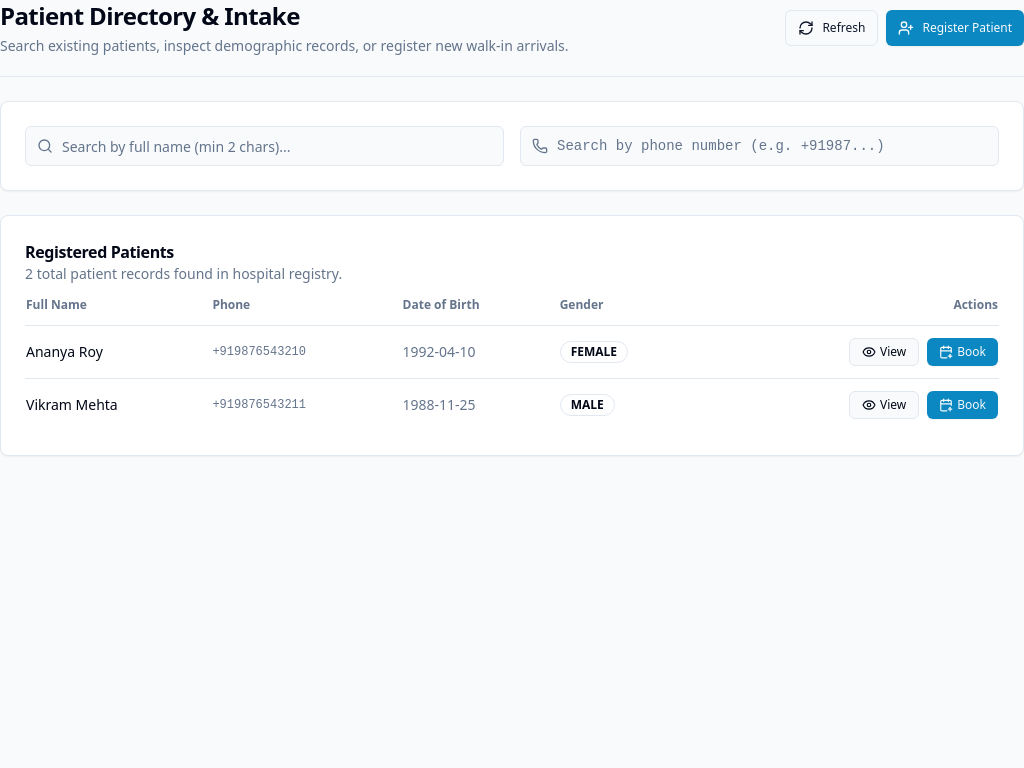
Scenario: Receptionist Patient Management & Registration › opens patient detail modal and displays demographics and allergies
The image size is (1024, 768).
Check: the text "Ananya Roy" is shown, box [25,326,211,378]
Click the button "View" in the row of "Ananya Roy" at {"x": 884, "y": 352}, box [849,338,919,366]
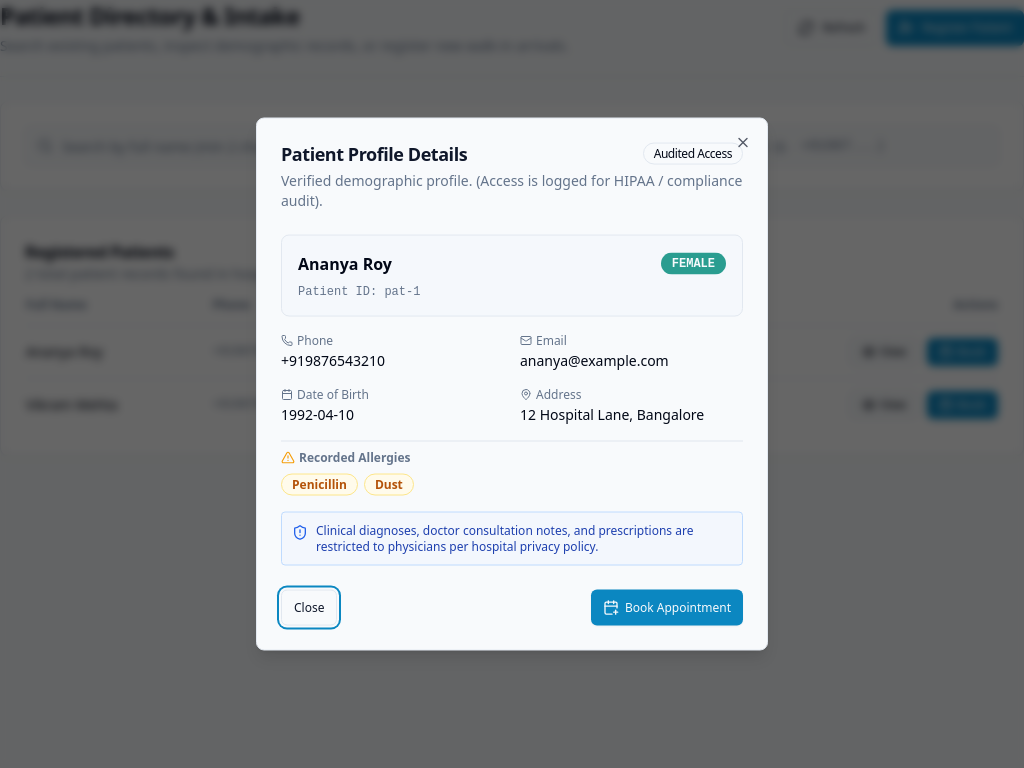
Check: the text "Patient Profile Details" is shown, box [281,144,467,162]
Check: the text "12 Hospital Lane, Bangalore" is shown, box [520,404,704,424]
Check: the text "Penicillin" is shown, box [281,474,358,496]
